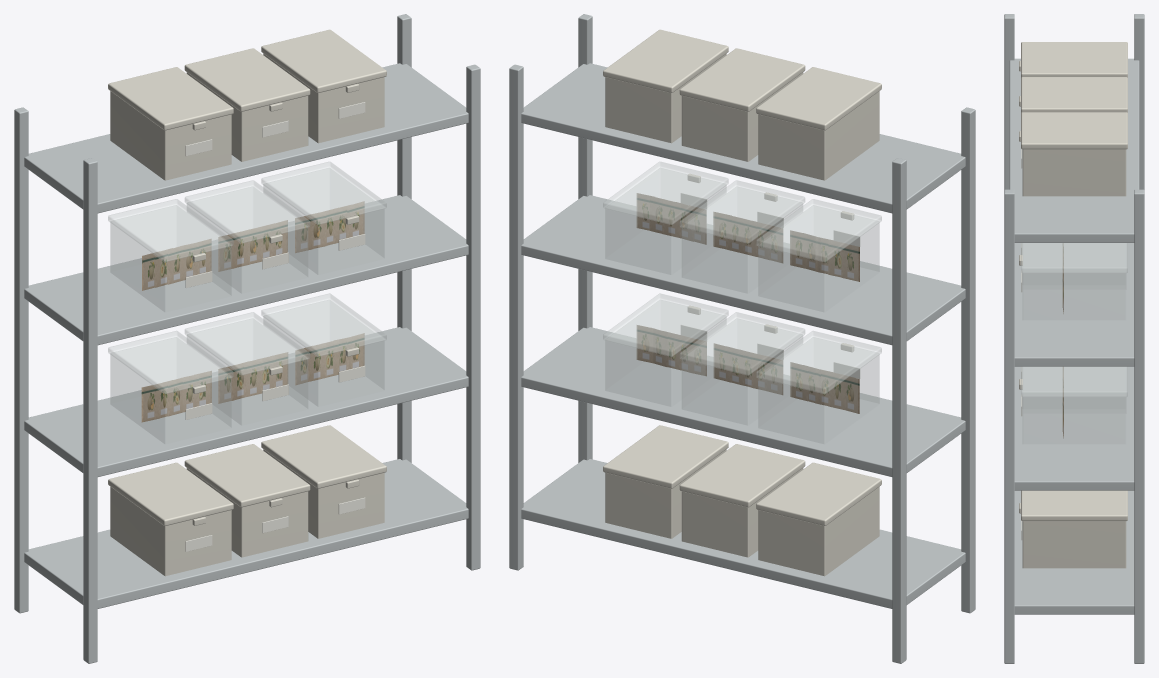
File: input_storage_rack.glb
3 views of the same model, side by side, from view 1: azimuth 30°, elevation 25°; view 2: azimuth 150°, elevation 25°; view 3: azimuth 270°, elevation 25° (orthographic). The views are drawn at different scales.
Parts seen in each view (by area): view 1: WT_S02_Storage_shelf.005, WT_S02_Storage_shelf.006, WT_S02_Storage_shelf.007, WT_S02_Storage_shelf.004, WT_S02_Storage_bin.015, WT_S02_Storage_bin.018, WT_S02_Storage_upright.004, WT_S02_Storage_bin.020, WT_S02_Storage_bin.017, WT_S02_Storage_bin.019, WT_S02_Storage_bin.016, WT_S02_Storage_upright.006 (+25 smaller); view 2: WT_S02_Storage_shelf.005, WT_S02_Storage_shelf.006, WT_S02_Storage_shelf.007, WT_S02_Storage_shelf.004, WT_S02_Storage_bin.018, WT_S02_Storage_bin.015, WT_S02_Storage_bin.017, WT_S02_Storage_bin.020, WT_S02_Storage_bin.019, WT_S02_Storage_bin.016, WT_S02_Storage_upright.005, WT_S02_Storage_upright.007 (+24 smaller); view 3: WT_S02_Storage_shelf.005, WT_S02_Storage_shelf.006, WT_S02_Storage_shelf.007, WT_S02_Storage_bin.017, WT_S02_Storage_bin.020, WT_S02_Storage_shelf.004, WT_S02_Storage_upright.006, WT_S02_Storage_upright.007, WT_S02_Storage_bin.014, WT_S02_Storage_bin.023, HF_S02_Lid_11.001, HF_S02_Lid_10.001 (+6 smaller).
Part boxes in pixels (box(x1,y1,x2,y2)): WT_S02_Storage_shelf.005: box(24, 327, 468, 476); WT_S02_Storage_shelf.006: box(24, 195, 468, 345); WT_S02_Storage_shelf.007: box(24, 63, 468, 213); WT_S02_Storage_shelf.004: box(24, 459, 468, 608); WT_S02_Storage_bin.015: box(110, 337, 231, 443); WT_S02_Storage_bin.018: box(110, 205, 231, 311); WT_S02_Storage_upright.004: box(83, 158, 97, 663); WT_S02_Storage_bin.020: box(263, 168, 384, 274); WT_S02_Storage_bin.017: box(263, 300, 384, 406); WT_S02_Storage_bin.019: box(187, 186, 307, 293); WT_S02_Storage_bin.016: box(187, 318, 307, 425); WT_S02_Storage_upright.006: box(466, 64, 480, 570); WT_S02_Storage_shelf.005: box(521, 327, 965, 476); WT_S02_Storage_shelf.006: box(521, 195, 965, 345); WT_S02_Storage_shelf.007: box(521, 63, 965, 213); WT_S02_Storage_shelf.004: box(521, 459, 965, 608); WT_S02_Storage_bin.018: box(758, 205, 879, 311); WT_S02_Storage_bin.015: box(758, 337, 879, 443); WT_S02_Storage_bin.017: box(605, 300, 726, 406); WT_S02_Storage_bin.020: box(605, 168, 726, 274); WT_S02_Storage_bin.019: box(682, 186, 802, 293); WT_S02_Storage_bin.016: box(682, 318, 802, 425); WT_S02_Storage_upright.005: box(892, 158, 906, 663); WT_S02_Storage_upright.007: box(509, 64, 523, 570); WT_S02_Storage_shelf.005: box(1014, 366, 1134, 490); WT_S02_Storage_shelf.006: box(1014, 243, 1134, 366); WT_S02_Storage_shelf.007: box(1009, 58, 1139, 242); WT_S02_Storage_bin.017: box(1023, 367, 1125, 443); WT_S02_Storage_bin.020: box(1023, 243, 1125, 319); WT_S02_Storage_shelf.004: box(1014, 490, 1134, 614); WT_S02_Storage_upright.006: box(1004, 189, 1014, 663); WT_S02_Storage_upright.007: box(1134, 189, 1144, 663); WT_S02_Storage_bin.014: box(1022, 521, 1126, 568); WT_S02_Storage_bin.023: box(1022, 149, 1126, 196); HF_S02_Lid_11.001: box(1021, 112, 1127, 149); HF_S02_Lid_10.001: box(1021, 77, 1127, 112).
Size of the model in its own units: 1.64 by 2.05 by 0.54.
5 materials, 1 textured.
